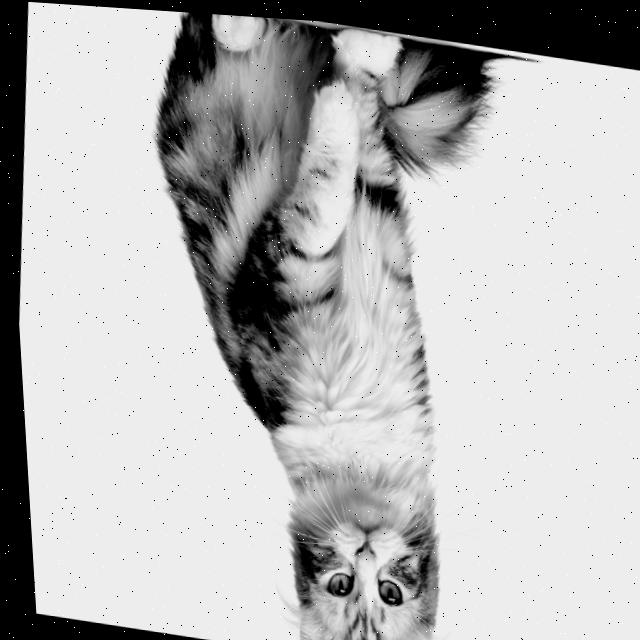American Curl: (98, 5, 572, 640)
